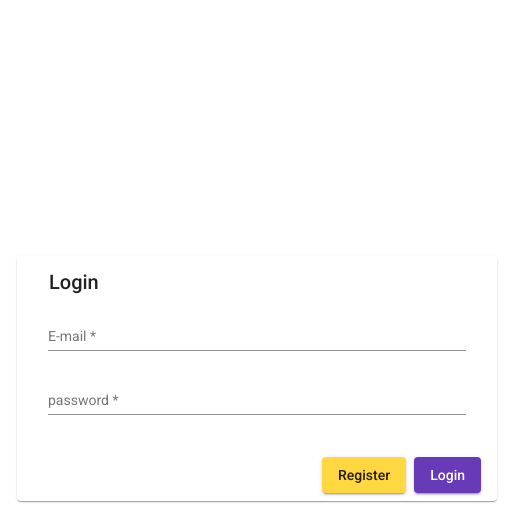
Authentication module › Display error on login
Step 1. Type "admin@test.com" into the field with id "email" → x=257, y=337, box [48,329,466,345]
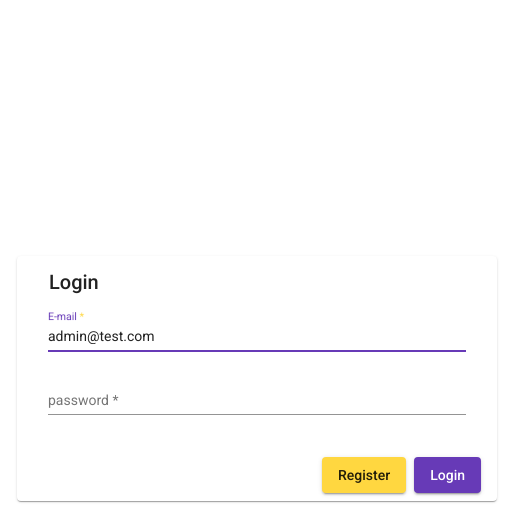
Step 2. Type "Adm!nistrat0r" into the password field labelled "password *" → x=257, y=401, box [48,393,466,409]
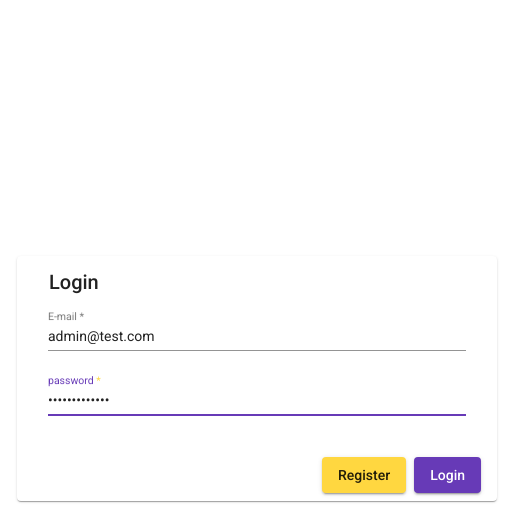
Step 3. Click the submit button → x=448, y=475, box [414,457,481,493]
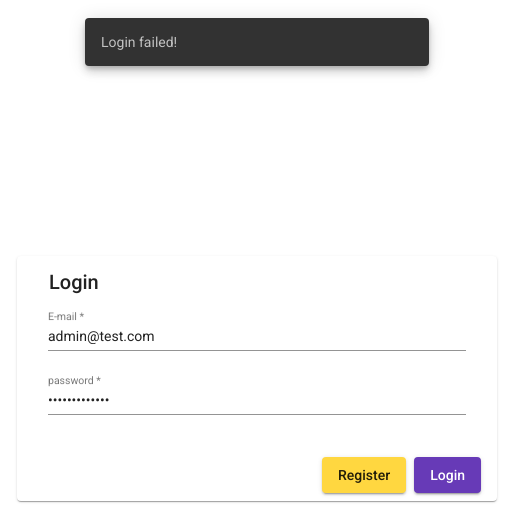
Expected: the text "Login failed" is shown, [101,34,177,50]
